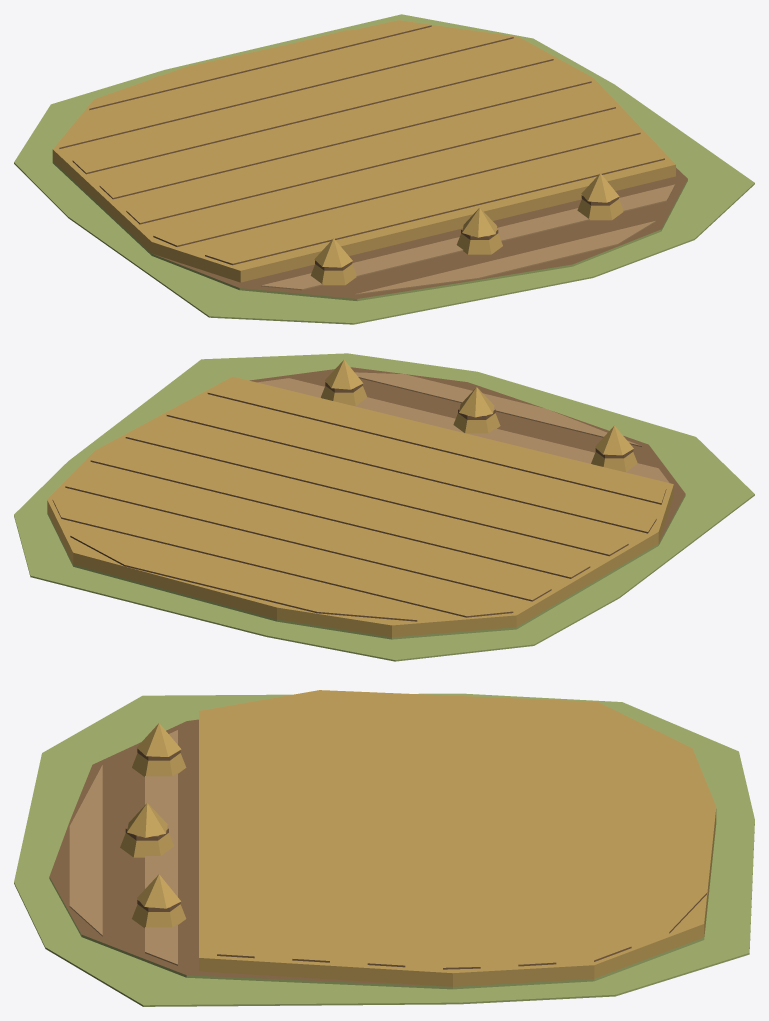
Rendered from field-ripe.glb.
The picture shows the model from 3 angles, top to bottom: view 1: azimuth 30°, elevation 25°; view 2: azimuth 150°, elevation 25°; view 3: azimuth 270°, elevation 25°; orthographic projection. The views are drawn at different scales.
Parts seen in each view (by area): view 1: field-ripe; view 2: field-ripe; view 3: field-ripe.
Boxes of the visible parts, x1,y1,x2,y2 form: field-ripe: (14,14,754,324); field-ripe: (14,353,754,661); field-ripe: (14,690,754,1006).
Size of the model in its own units: 15.65 by 1.15 by 15.73.
Materials: 1 (1 with a texture image).
